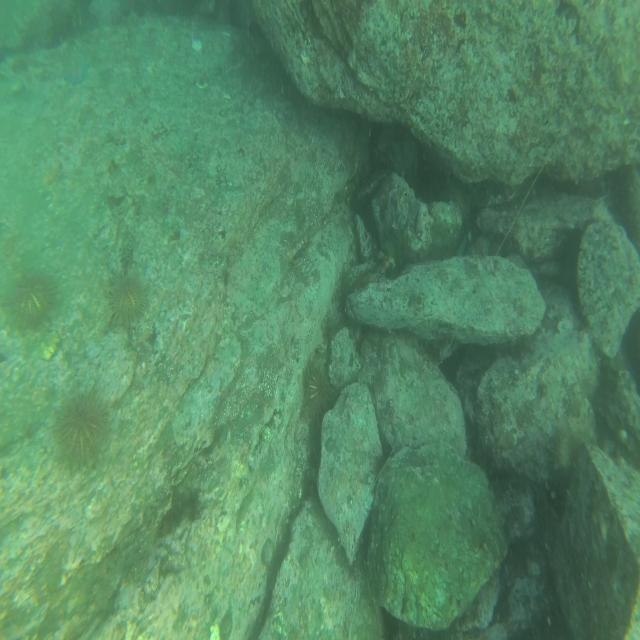echinus: (56, 402, 110, 469), (12, 273, 58, 325), (104, 273, 149, 320), (302, 362, 332, 422), (551, 428, 573, 475)
starfish: (61, 60, 90, 86)
